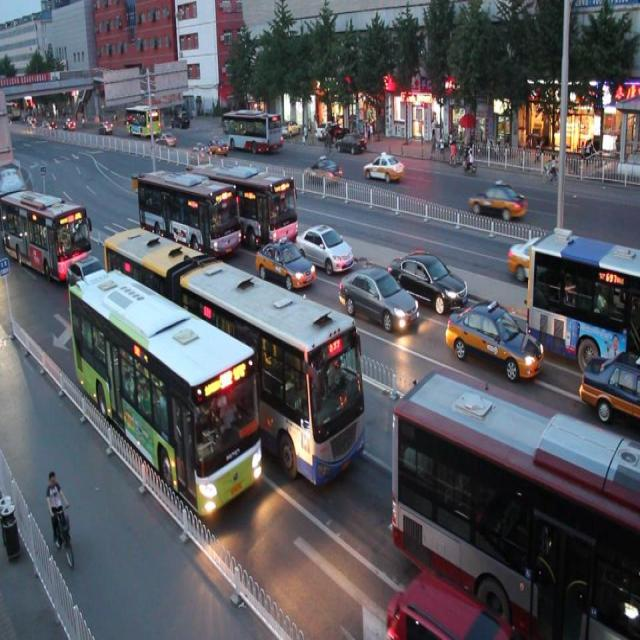car: (382, 567, 514, 640), (446, 294, 544, 382), (337, 258, 416, 331), (506, 231, 584, 299), (390, 243, 468, 309), (578, 348, 640, 419), (253, 230, 314, 289), (294, 214, 352, 273), (67, 254, 114, 306)
van: (102, 218, 366, 482), (392, 373, 640, 640), (67, 272, 260, 516), (527, 232, 640, 364), (136, 160, 240, 262), (191, 153, 298, 248), (1, 182, 90, 272)
